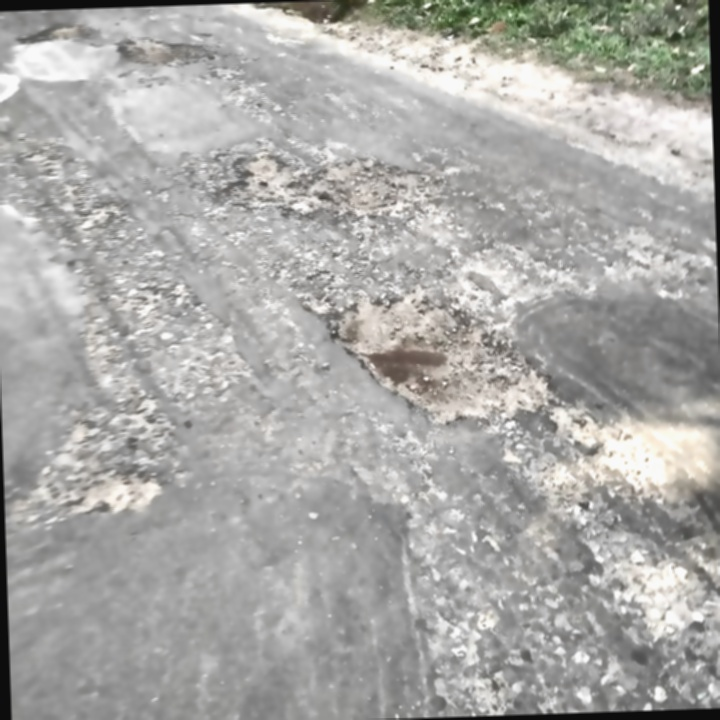pothole: (323, 280, 563, 433), (215, 146, 447, 223), (116, 30, 221, 72), (17, 19, 92, 49)
